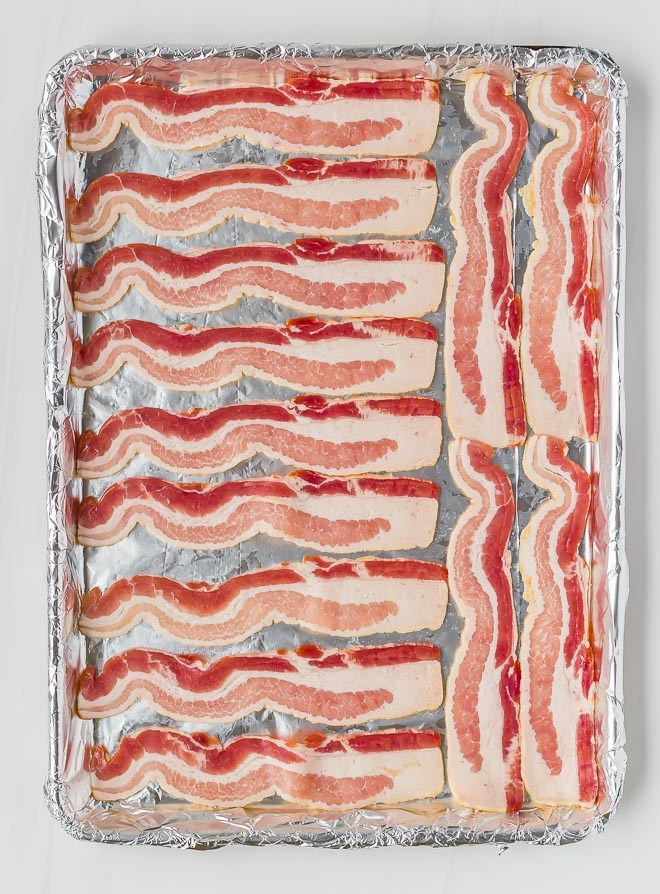bacon: (432, 82, 620, 809), (92, 586, 451, 833), (33, 315, 454, 416), (49, 235, 451, 332), (84, 71, 443, 170), (56, 393, 448, 482), (80, 541, 450, 634), (89, 465, 441, 556), (47, 166, 442, 239)
